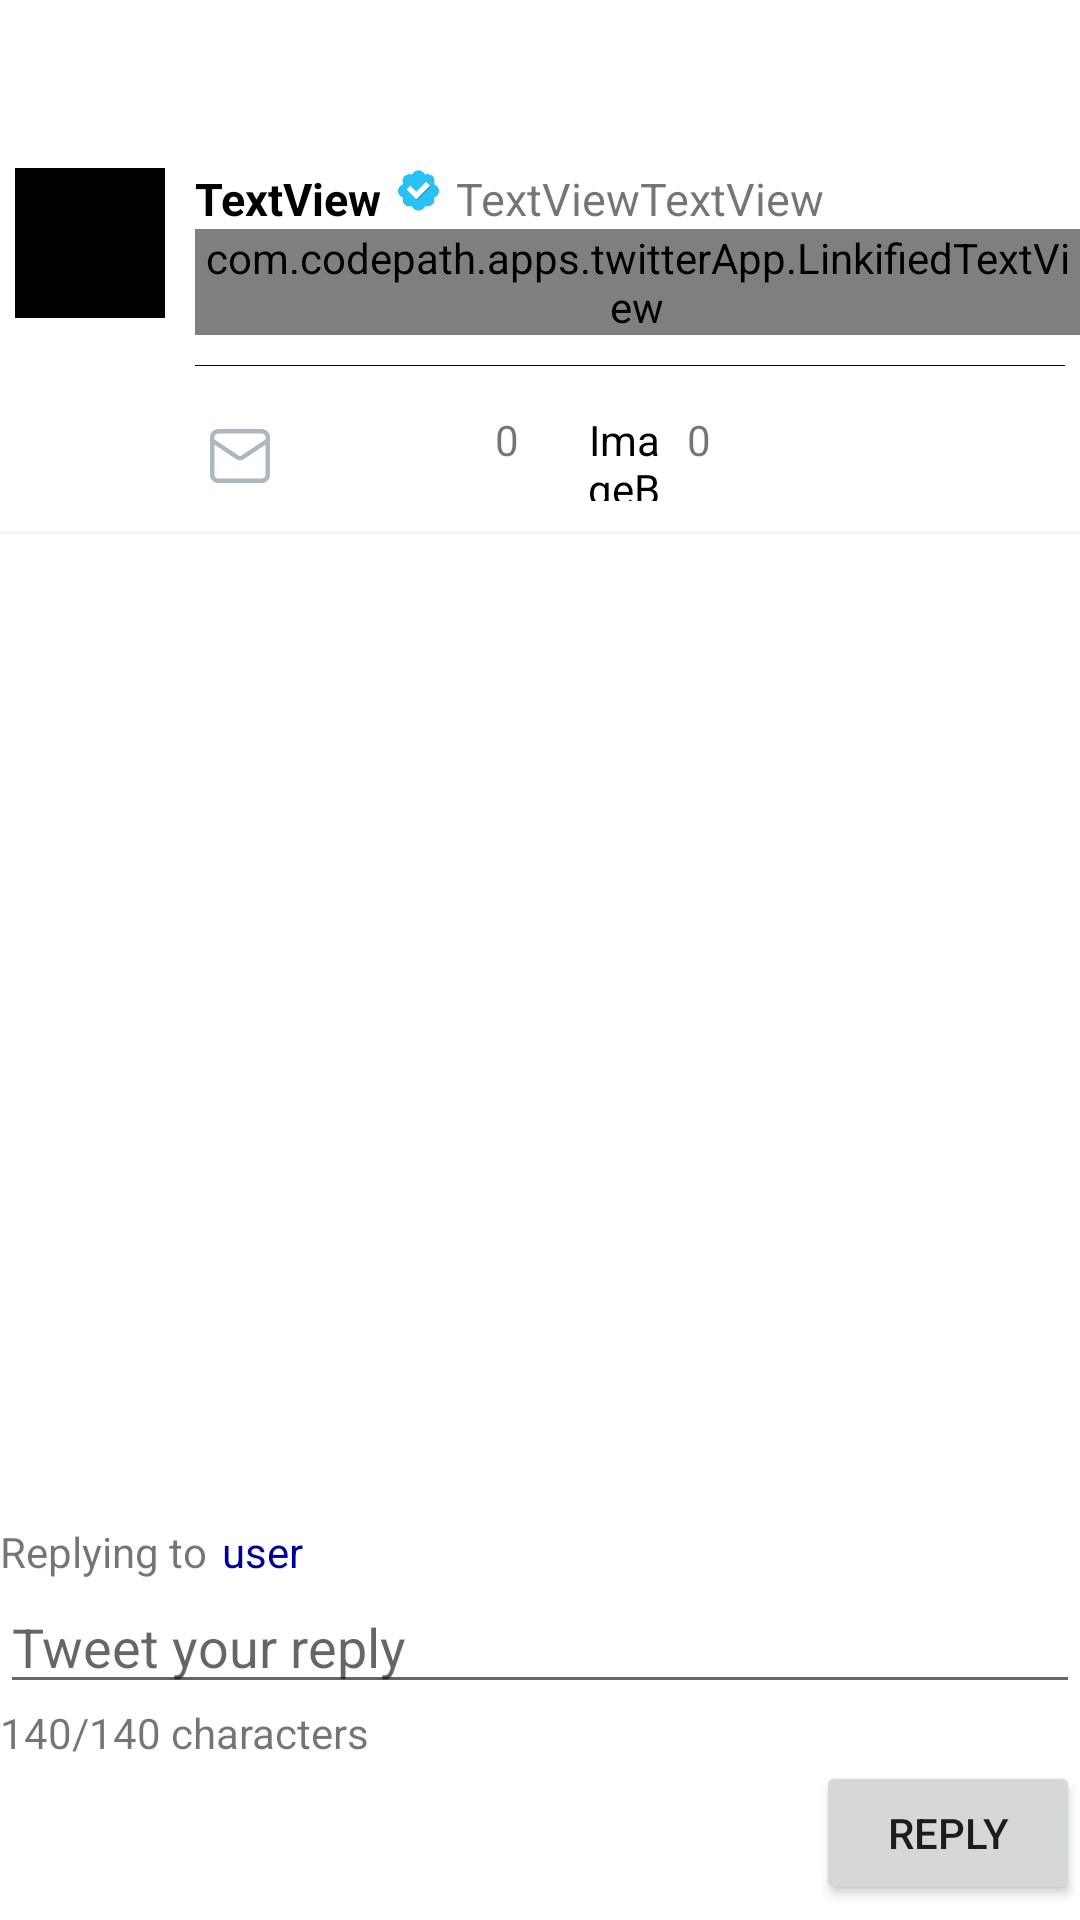

Named icons in this screenshot (1080w x 1920h) and their bounding boxes, [x1=x1, y1=y1, x2=x2, y2=y2]:
messages stroke: [x1=210, y1=429, x2=270, y2=483]
verified: [x1=398, y1=170, x2=439, y2=211]
